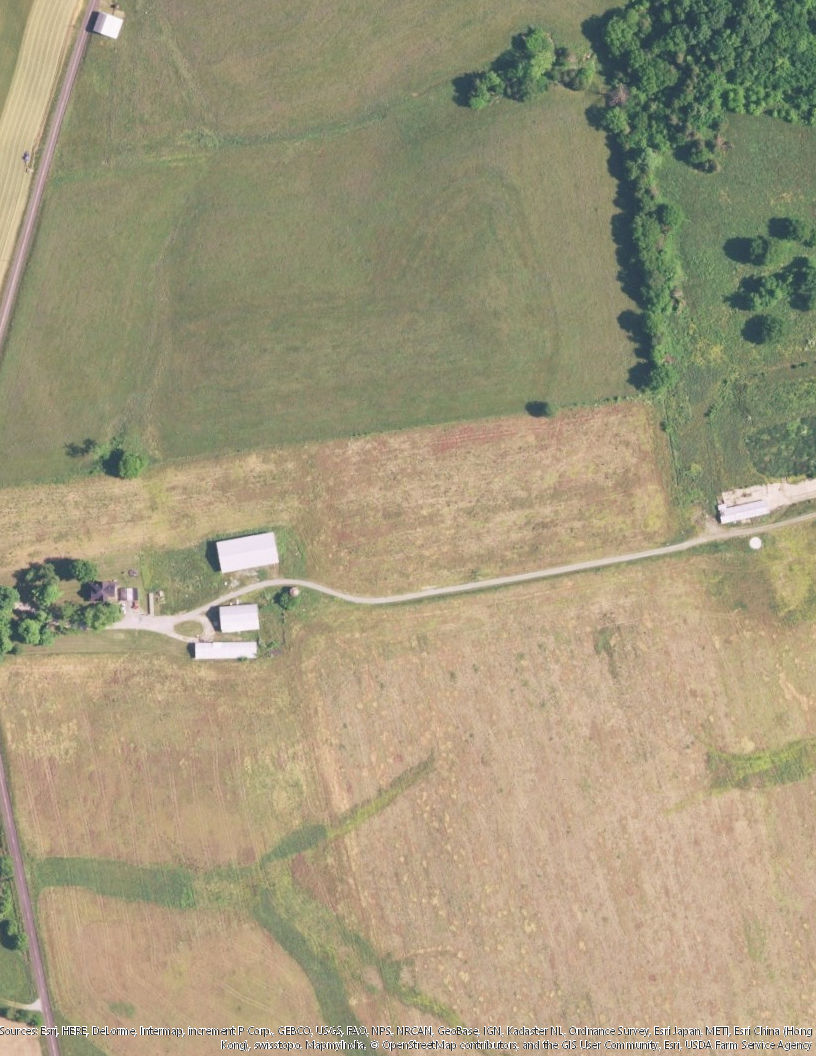cafo: (212, 523, 289, 572), (181, 636, 269, 661), (215, 602, 268, 636)
